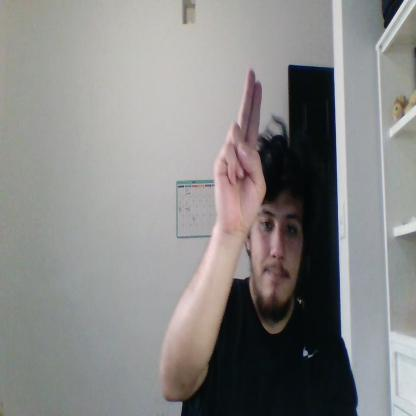U: (214, 68, 266, 235)
